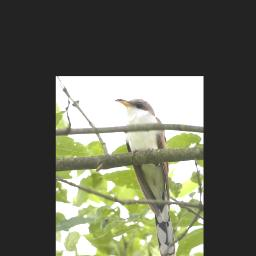Cuckoo: (114, 98, 175, 256)
